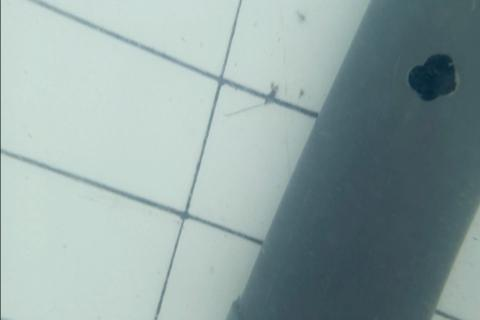kebocoran: (405, 48, 458, 104)
